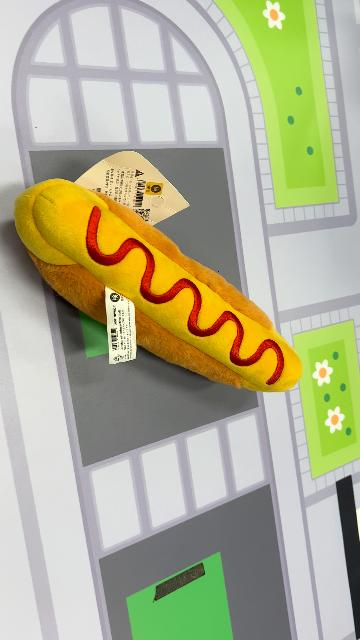hotdog: (13, 177, 304, 395)
